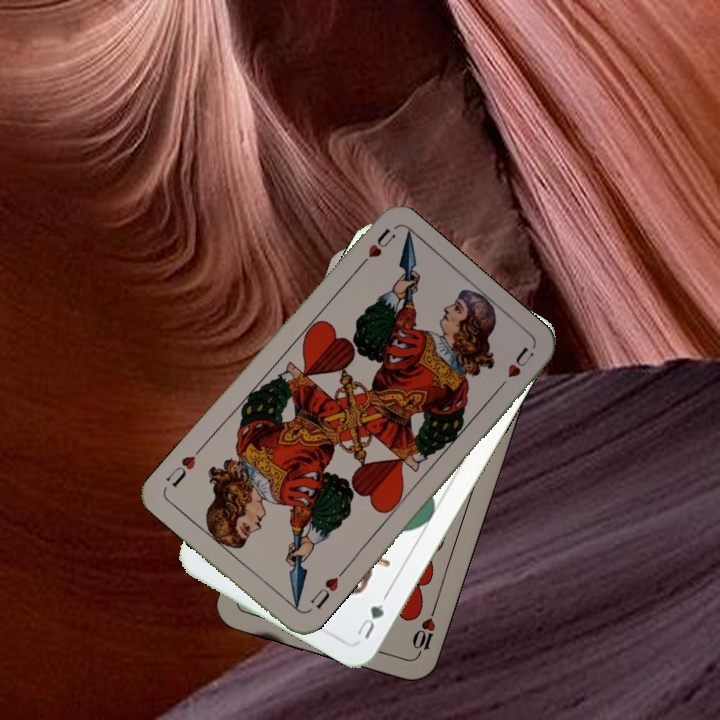GU: (352, 599, 387, 642)
H10: (408, 605, 439, 662)
HU: (352, 224, 398, 273), (305, 566, 347, 612)
